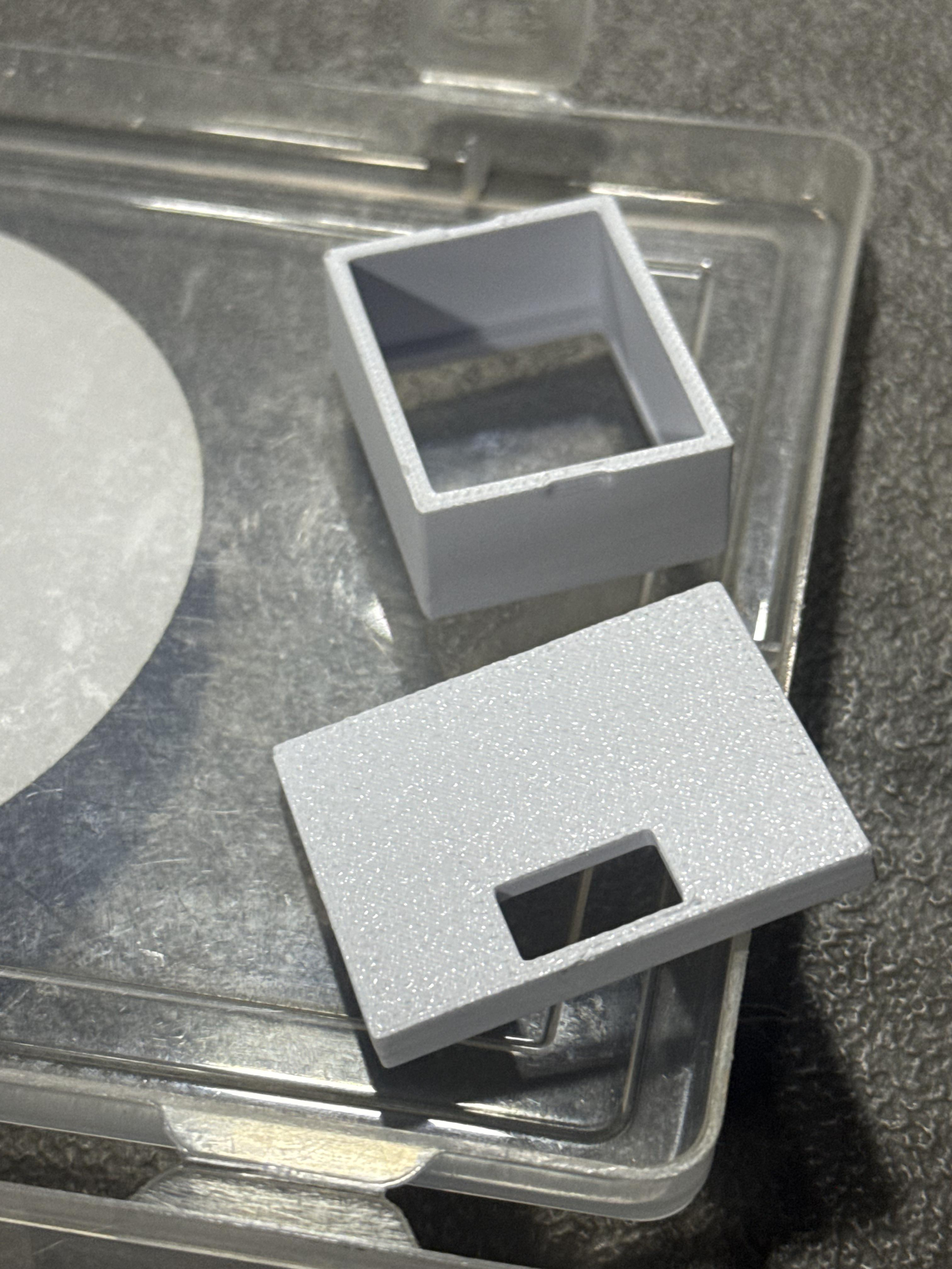enclosure: (257, 579, 883, 1069), (322, 195, 734, 621)
